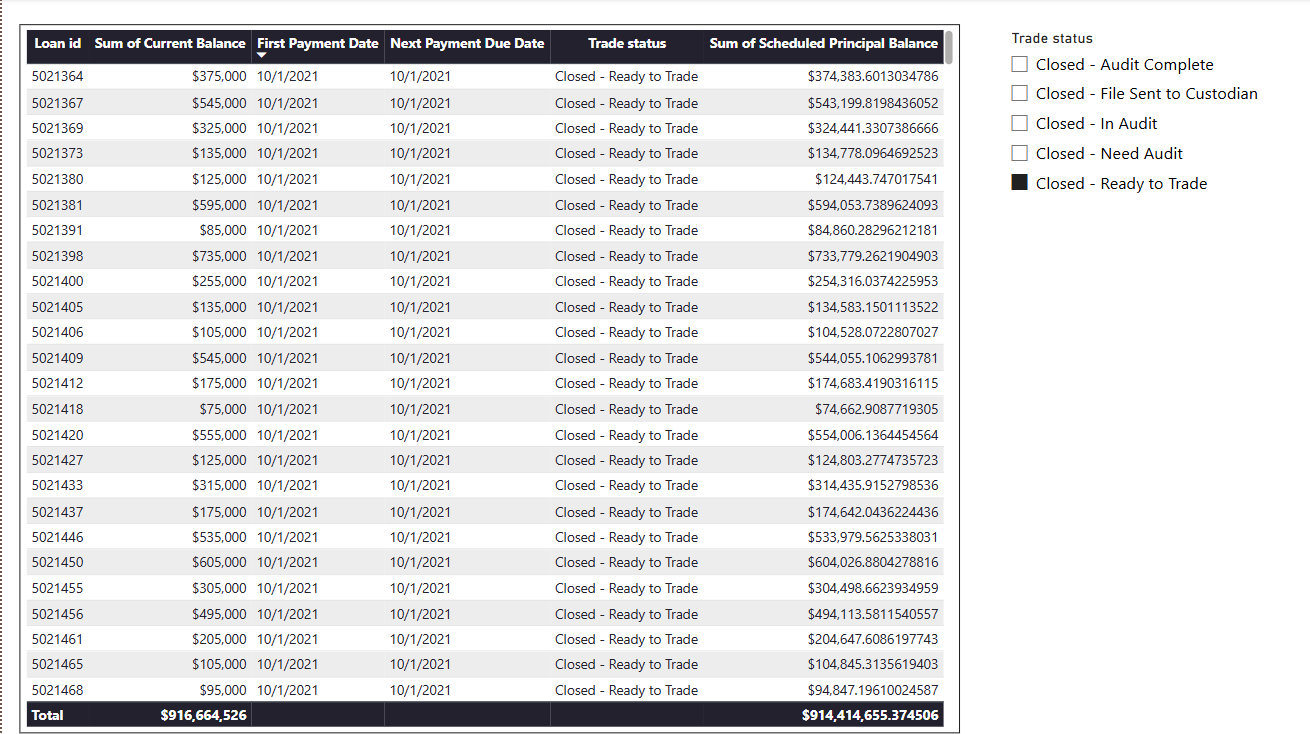

What the dashboard file says about the page in this screenshot:
{"tool":"powerbi","page":{"name":"Loan Balances","canvas":[1280,720],"ordinal":1},"visuals":[{"type":"tableEx","fields":{"Values":["loan_balance.loan_id","Sum(loan_balance.current_balance)","loan_balance.first_payment_date","loan_balance.next_payment_due_date","loan_status.Trade status","Sum(loan_balance.Scheduled Principal Balance)"]},"box":[16.8,25.8,919.8,693.7],"z":2000},{"type":"slicer","fields":{"Values":["loan_status.Trade status"]},"box":[974.1,25.8,259.7,179.6],"z":3000}]}

Visuals, with their boxes in screenshot pixels (x1, y1, x2, y2), scaled from the page's 1280x720 canvas onto the 1310x734 screenshot:
tableEx - loan_balance.loan_id x Sum(loan_balance.current_balance): locate(17, 26, 959, 733)
slicer - loan_status.Trade status: locate(997, 26, 1263, 209)
